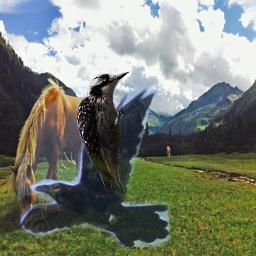Crow: (18, 86, 170, 247)
Woodpecker: (72, 65, 134, 202)
